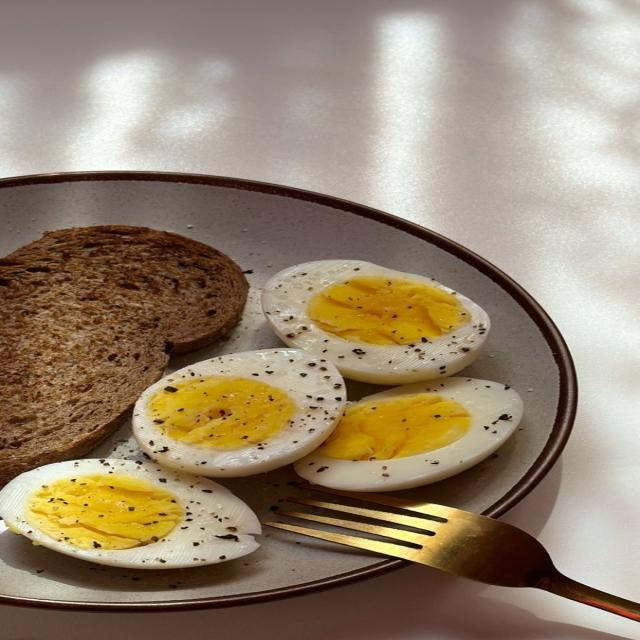eggs: (258, 259, 524, 490), (126, 350, 324, 471), (28, 461, 206, 580)
